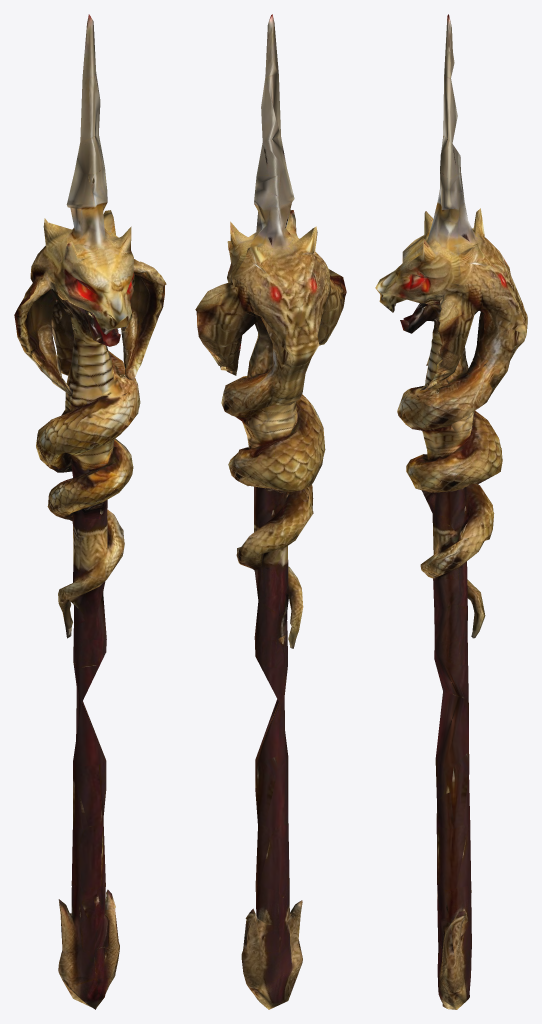
The model's file is 1591_spear.glb.
3 renders of one model, left to right at view 1: azimuth 30°, elevation 25°; view 2: azimuth 210°, elevation 25°; view 3: azimuth 270°, elevation 25°, orthographic.
Visible parts, largest first — view 1: Model; view 2: Model; view 3: Model.
Part boxes in pixels (x1=…): Model: x1=14, y1=14, x2=166, y2=1009; Model: x1=195, y1=14, x2=346, y2=1009; Model: x1=375, y1=14, x2=527, y2=1009.
Bounding box in the file's own units: 0.1486 × 1 × 0.1393.
Materials: 1 (1 with a texture image).
